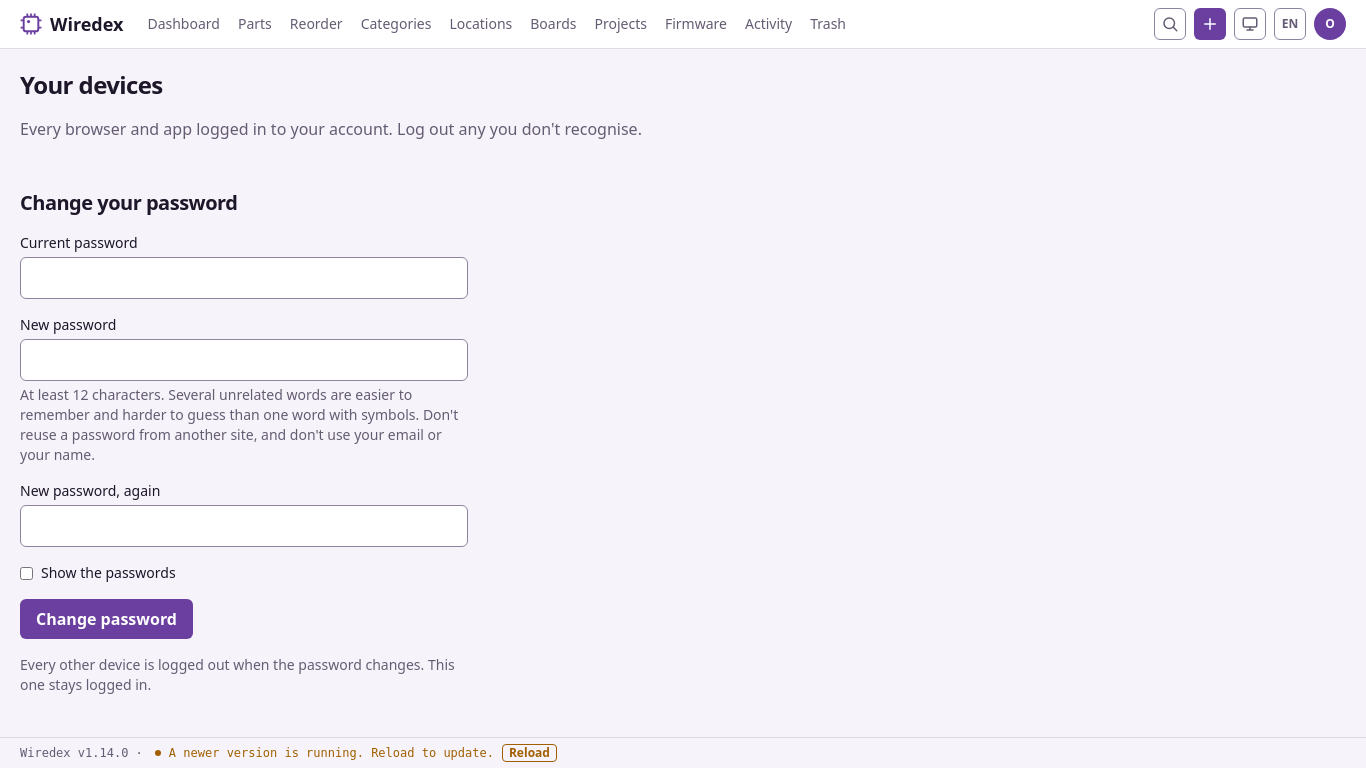
Test: SettingsPage › is reached from the account menu
Click the button named "Account of " at coordinates (1330, 24), box top-left (1314, 8), bottom-right (1346, 40)
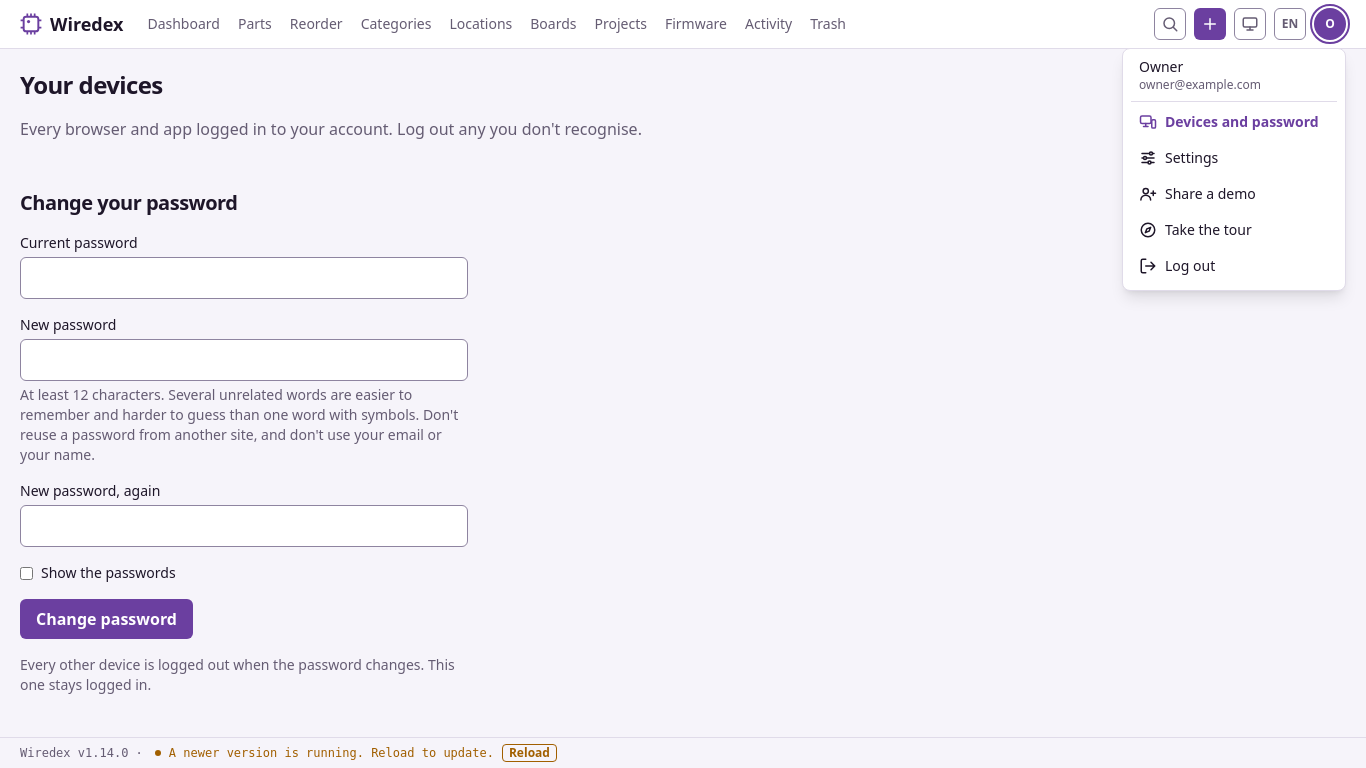
Click the menu item "Settings" at coordinates (1179, 158), box top-left (1139, 148), bottom-right (1218, 167)
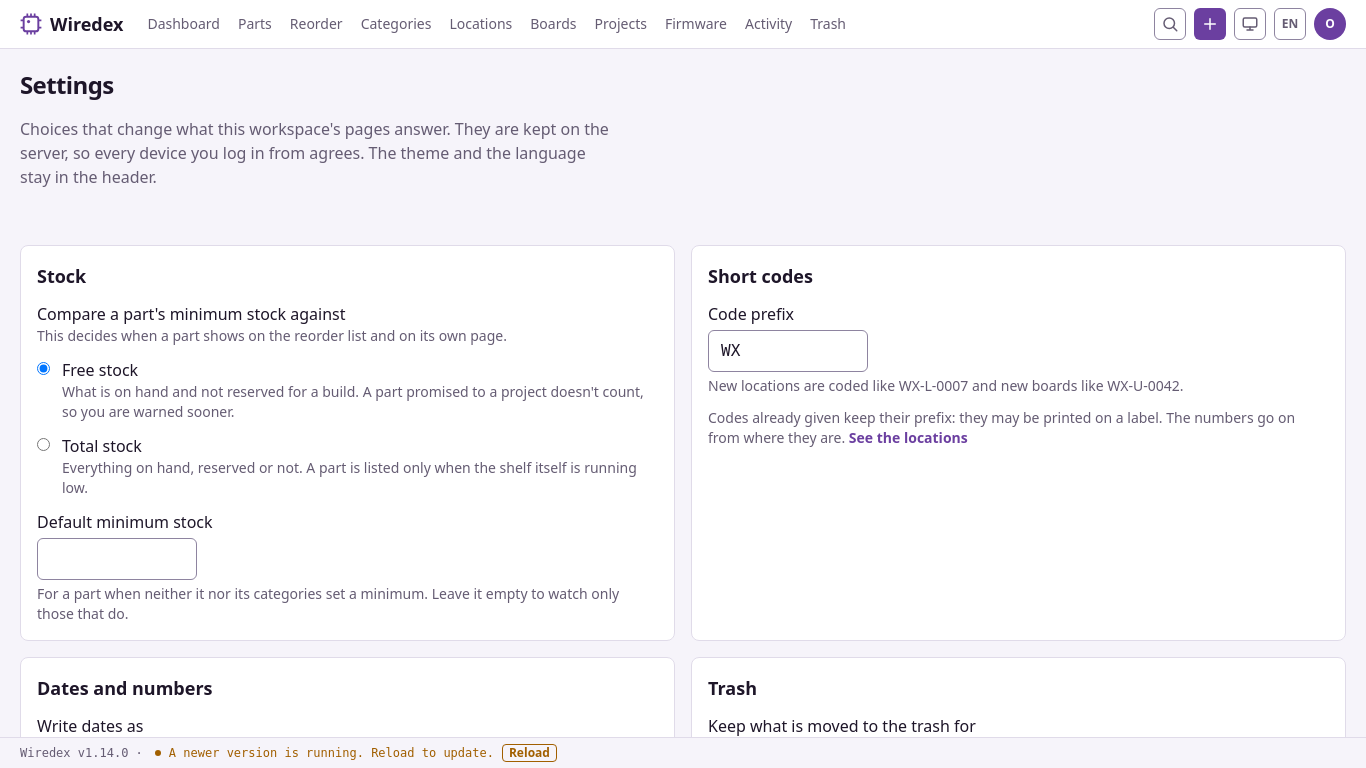
Now the heading "Settings" is shown, box top-left (20, 68), bottom-right (114, 101)
